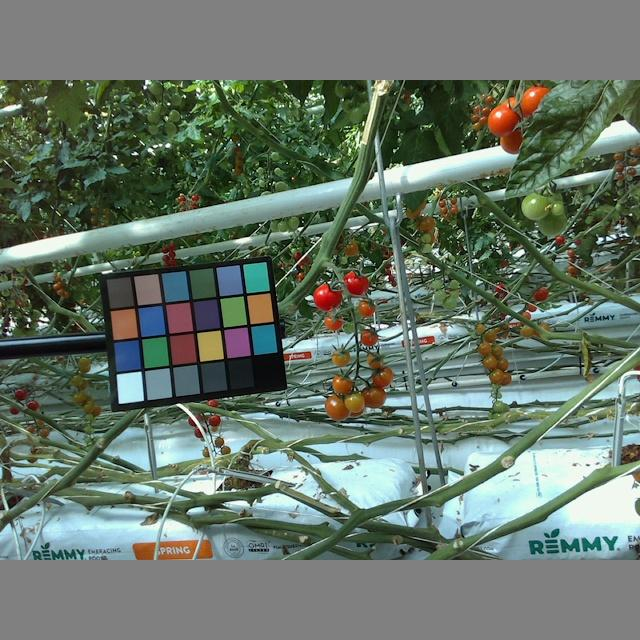green: (521, 191, 552, 222)
pink: (486, 105, 520, 135), (324, 396, 352, 420), (359, 388, 387, 409), (370, 366, 394, 388), (323, 309, 344, 331), (343, 390, 364, 412), (332, 346, 352, 368), (331, 374, 353, 394), (356, 299, 376, 318), (359, 329, 379, 347), (366, 352, 384, 369)
red: (312, 281, 345, 310), (339, 269, 369, 299)
